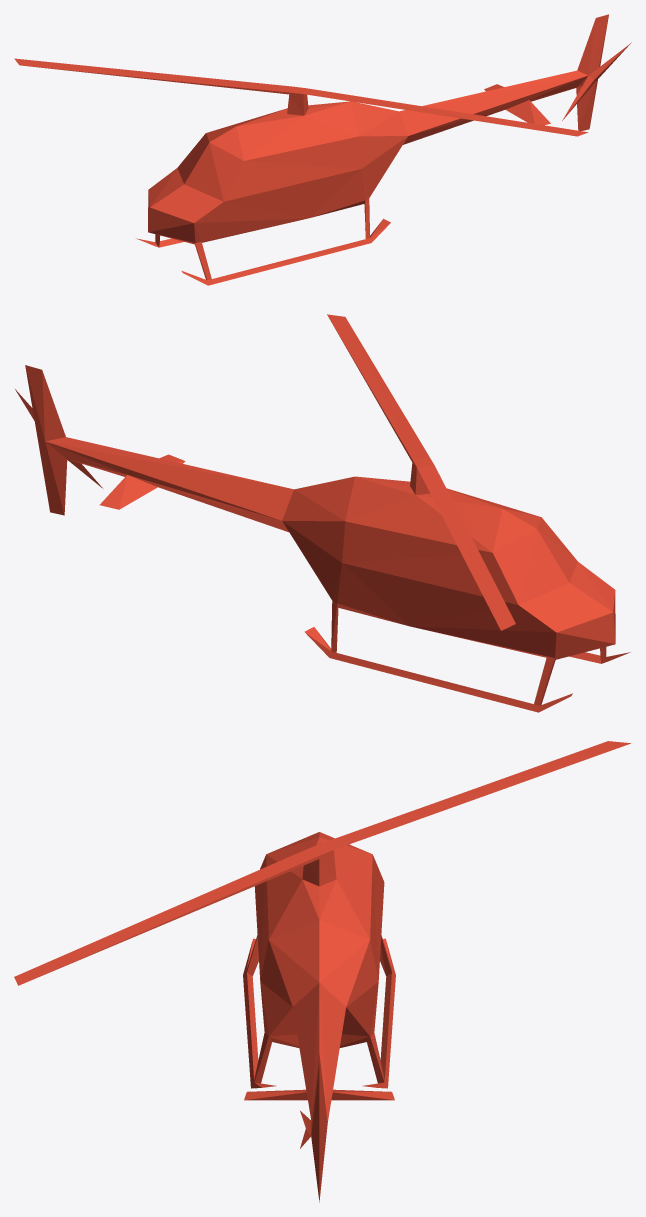
Rendered from helicoptero.glb.
3 renders of one model, top to bottom at view 1: azimuth 30°, elevation 25°; view 2: azimuth 150°, elevation 25°; view 3: azimuth 270°, elevation 25°, orthographic. The views are drawn at different scales.
Visible parts, largest first — view 1: helicoptero; view 2: helicoptero; view 3: helicoptero.
Part boxes in pixels (x1,y1,x2,y2): helicoptero: [14, 14, 631, 285]; helicoptero: [15, 314, 630, 712]; helicoptero: [14, 741, 630, 1202].
Size of the model in its own units: 9 by 2.52 by 6.86.
